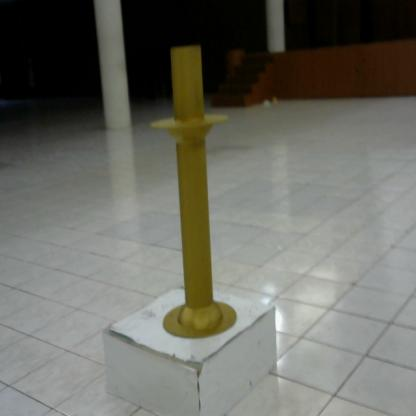pole: (145, 41, 242, 346)
